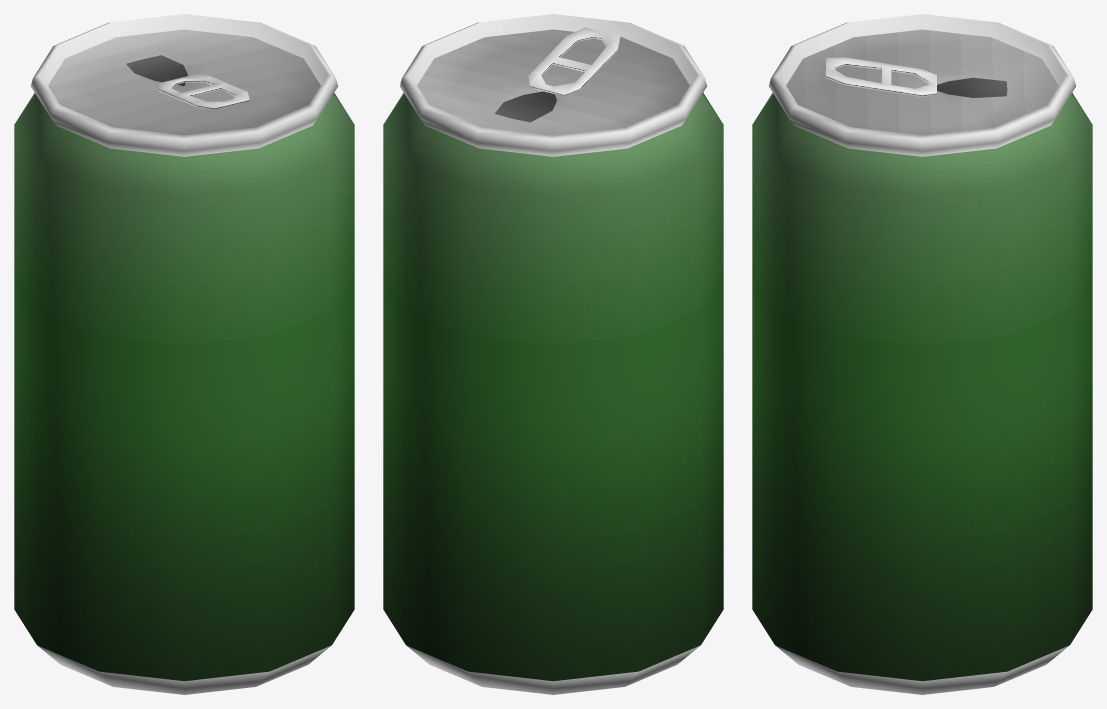
File: SM_Can_green.fbx
3 views of the same model, side by side, from view 1: azimuth 30°, elevation 25°; view 2: azimuth 150°, elevation 25°; view 3: azimuth 270°, elevation 25° (orthographic).
Visible parts, largest first — view 1: Can_green; view 2: Can_green; view 3: Can_green.
Boxes of the visible parts, box(x1,y1,x2,y2) form: Can_green: box(14, 14, 354, 694); Can_green: box(383, 14, 723, 694); Can_green: box(752, 14, 1092, 694).
Size of the model in its own units: 14.04 by 25.84 by 14.04.
